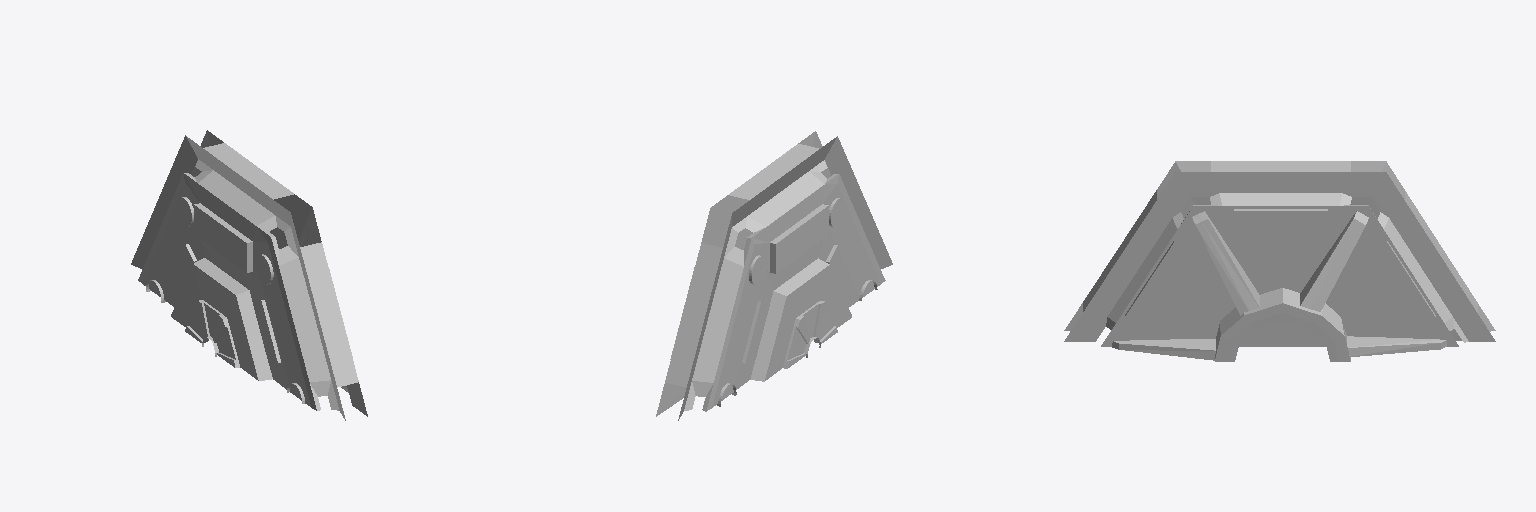
Rendered from tieFighterWingDetail.obj.
The picture shows the model from 3 angles: view 1: azimuth 30°, elevation 25°; view 2: azimuth 150°, elevation 25°; view 3: azimuth 270°, elevation 25°; orthographic projection.
Visible parts, largest first — view 1: Sphere.002; view 2: Sphere.002; view 3: Sphere.002.
Boxes of the visible parts, x1,y1,x2,y2 form: Sphere.002: [131, 130, 367, 420]; Sphere.002: [656, 131, 892, 420]; Sphere.002: [1064, 161, 1495, 361].
Bounding box in the file's own units: 0.2778 × 0.4867 × 1.11.